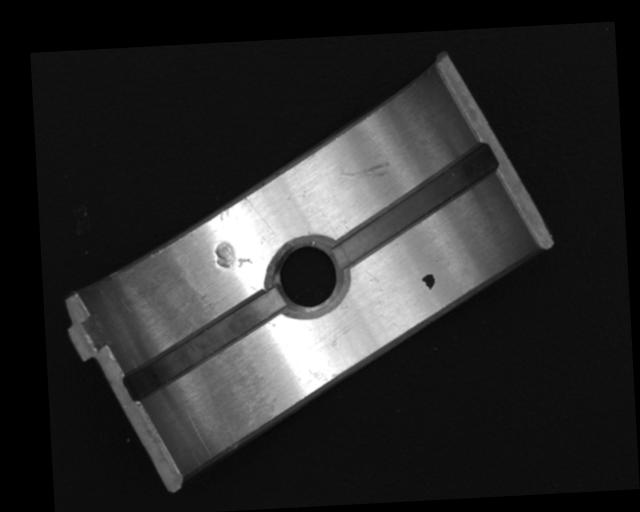blot: (421, 272, 435, 291)
bruise: (213, 238, 254, 271)
gap: (332, 143, 500, 268), (122, 290, 287, 400)
hole: (268, 234, 345, 320)
nick: (337, 159, 391, 181)
